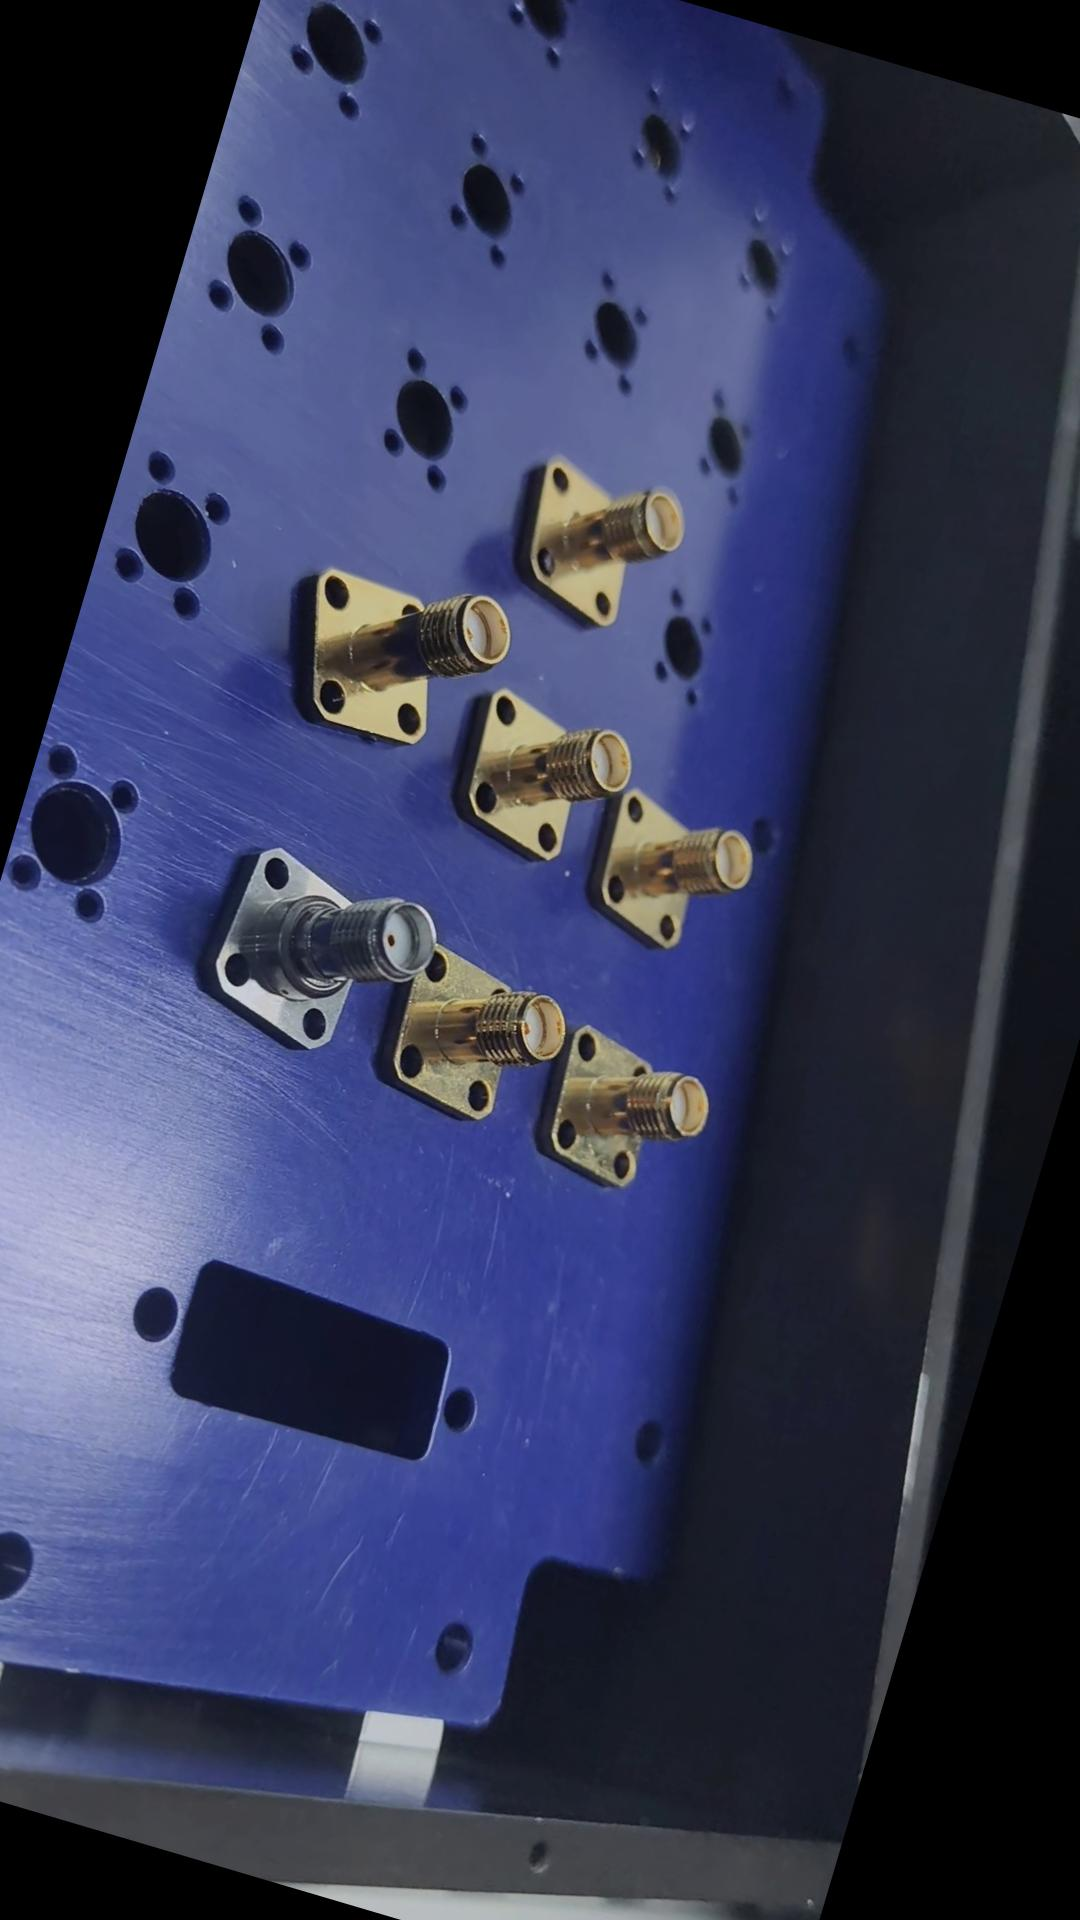SMA: (182, 832, 447, 1077), (270, 541, 520, 767), (521, 1013, 727, 1215), (375, 939, 579, 1141), (442, 684, 647, 877), (497, 448, 698, 637), (575, 782, 766, 967)
